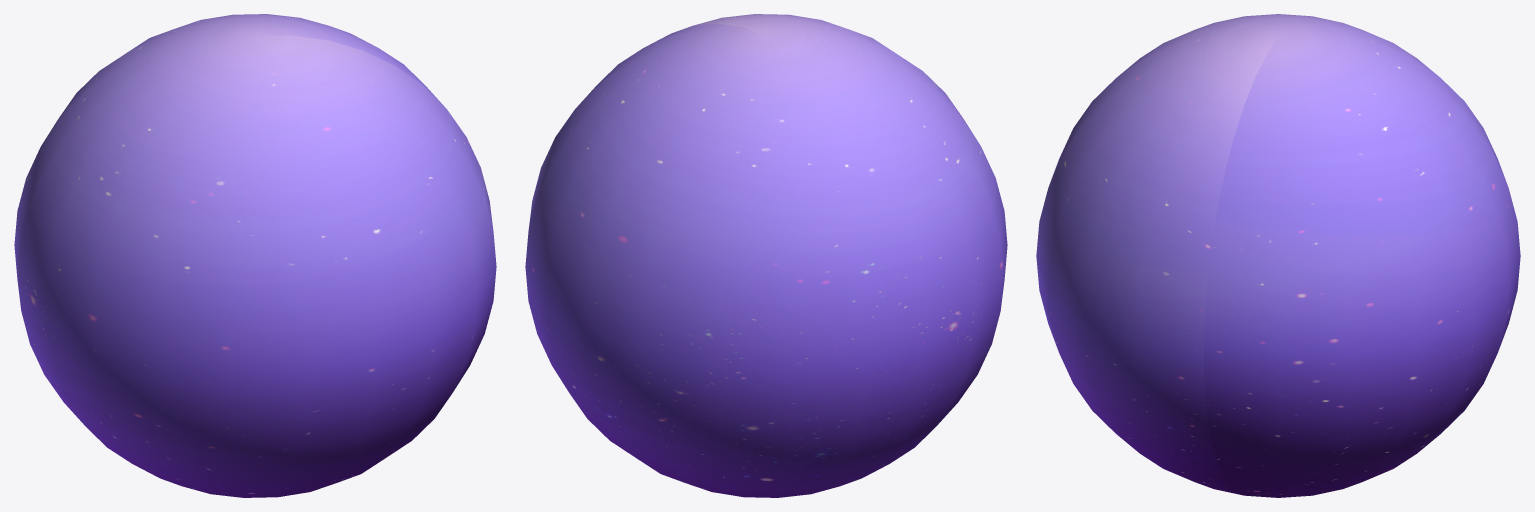
The model's file is Univers.fbx.
3 views of the same model, side by side, from view 1: azimuth 30°, elevation 25°; view 2: azimuth 150°, elevation 25°; view 3: azimuth 270°, elevation 25° (orthographic).
Parts seen in each view (by area): view 1: pSphere10; view 2: pSphere10; view 3: pSphere10.
Boxes of the visible parts, bbox=[...] form: pSphere10: bbox=[14, 14, 496, 497]; pSphere10: bbox=[525, 14, 1007, 497]; pSphere10: bbox=[1036, 14, 1520, 497].
Size of the model in its own units: 58.29 by 58.29 by 58.29.
Materials: 1 (1 with a texture image).
